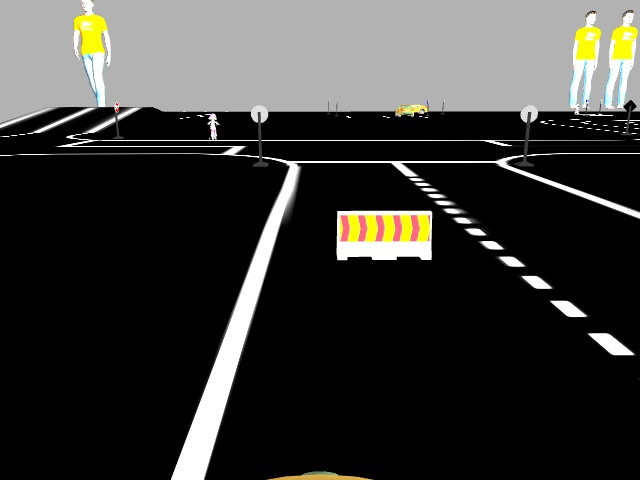ClosedRoadStand: (338, 211, 430, 258)
